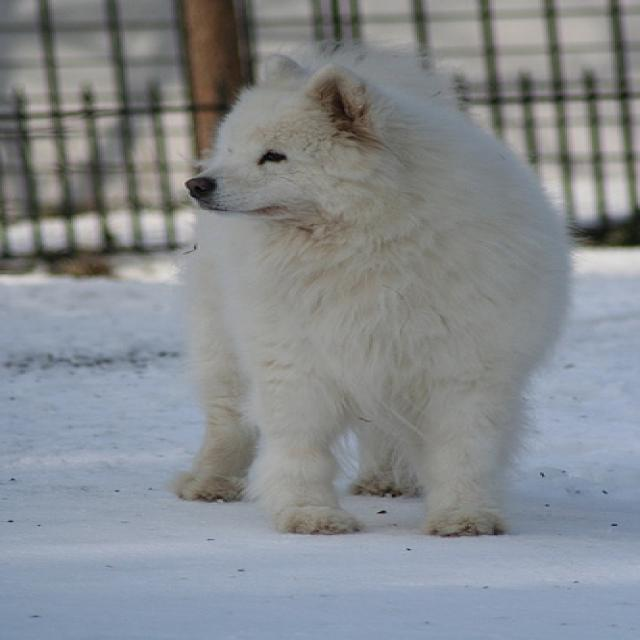dog-samoyed: (165, 49, 582, 543)
